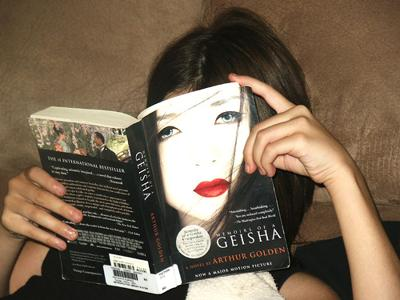person: (1, 10, 398, 300)
